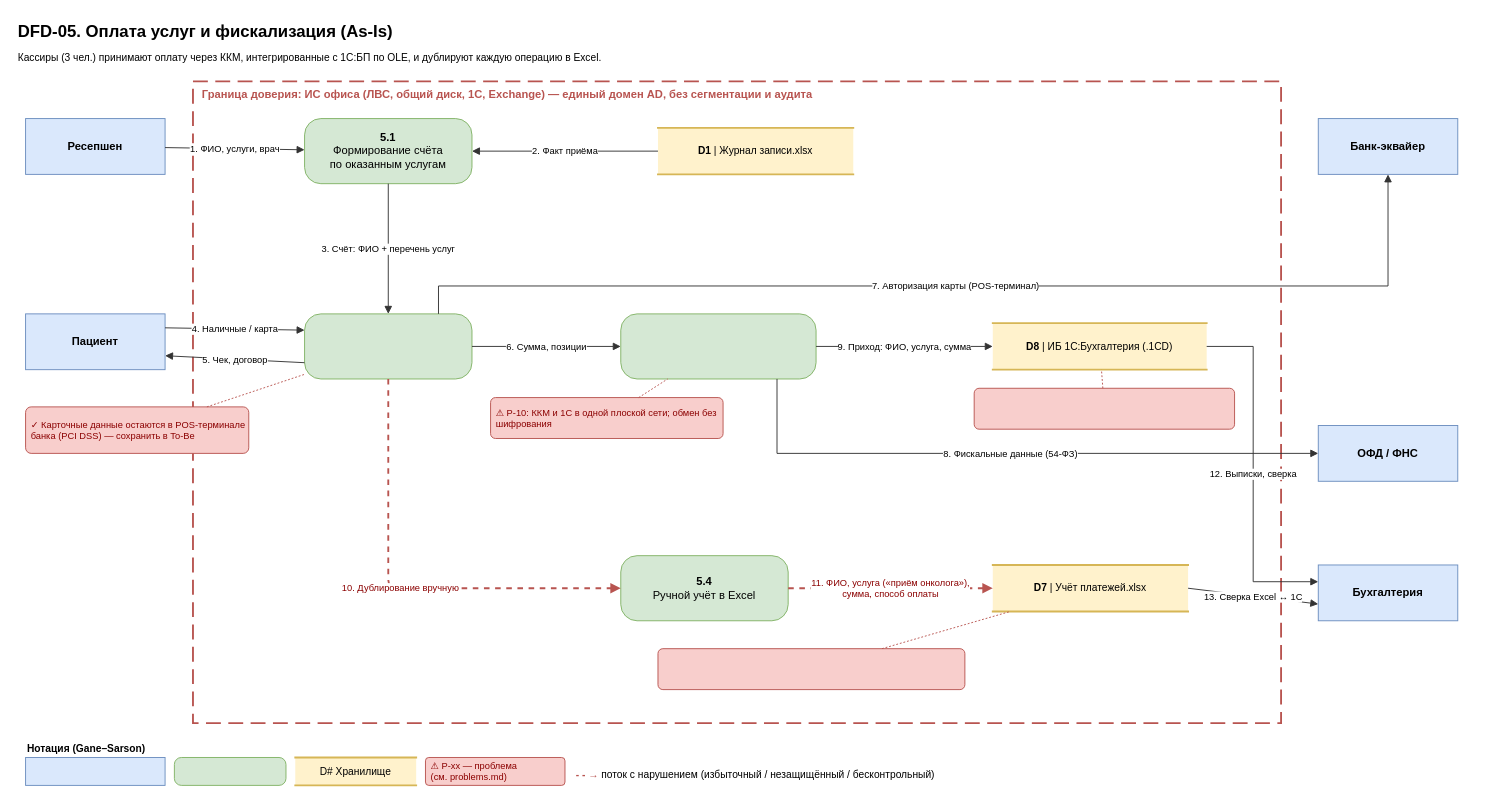
Some shapes in this 1501 by 802 pixel diagram are drawn without their labels. The centre of each missing label's shape, as x and y in pixels:
"5.2 Приём оплаты (наличные / карта)" goes at pixel 388 346.
"5.3 Пробитие чека на ККМ (TCP/IP + OLE-компонента)" goes at pixel 718 346.
"Внешняя сущность / роль" goes at pixel 95 771.
"Процесс" goes at pixel 229 771.
"⚠ P-07: двойной учёт; «ФИО + услуга» раскрывает диагноз; расхождения сумм" goes at pixel 811 669.
"⚠ P-08: файловая ИБ 1С — доступ к файлу = доступ ко всей базе" goes at pixel 1104 408.
